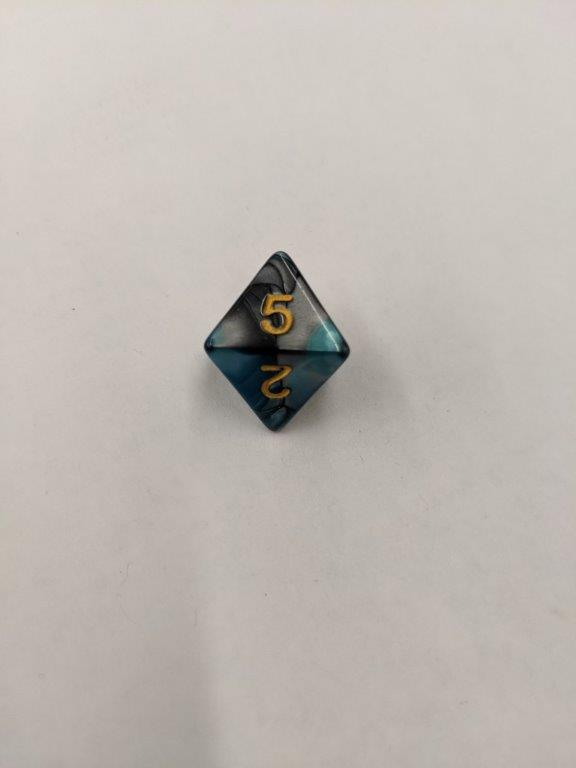d8-5: (202, 250, 353, 435)
